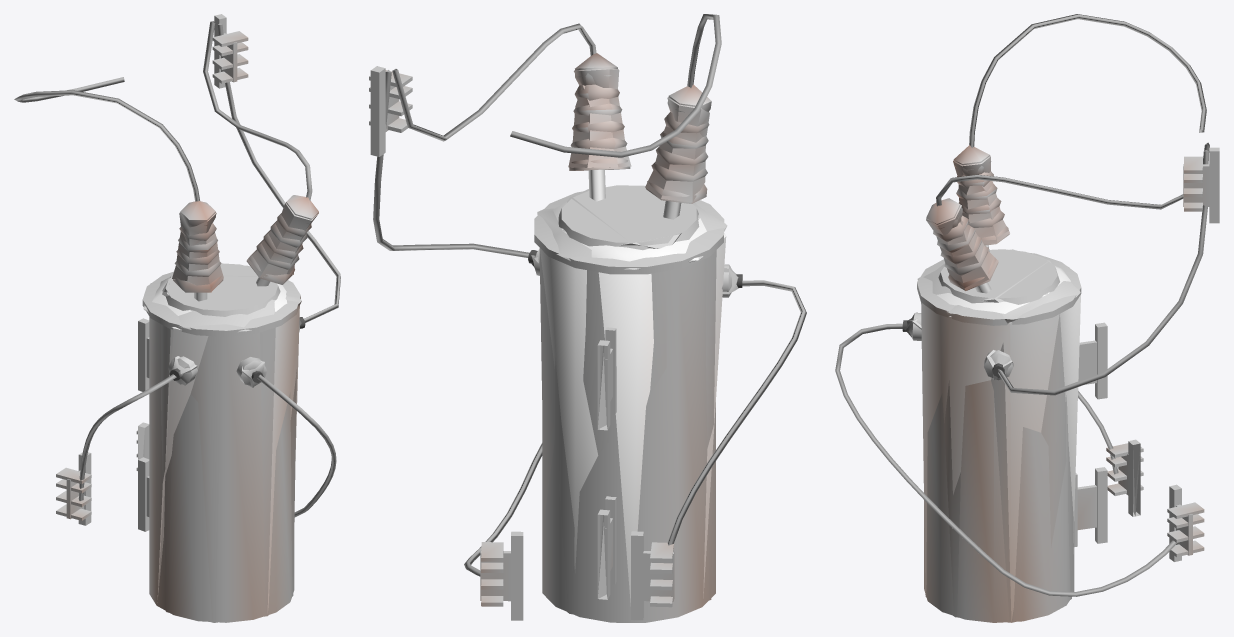
Rendered from electrical_transformer1.dae.
3 renders of one model, left to right at view 1: azimuth 30°, elevation 25°; view 2: azimuth 150°, elevation 25°; view 3: azimuth 270°, elevation 25°, orthographic. The views are drawn at different scales.
Parts seen in each view (by area): view 1: electrical_transformer1_a200, electrical_transformer1_a100, electrical_transformer1_a050; view 2: electrical_transformer1_a200, electrical_transformer1_a050, electrical_transformer1_a100; view 3: electrical_transformer1_a200, electrical_transformer1_a050, electrical_transformer1_a100.
Boxes of the visible parts, <box> form: electrical_transformer1_a200: <box>14,14,340,622</box>; electrical_transformer1_a100: <box>87,33,318,622</box>; electrical_transformer1_a050: <box>143,276,299,613</box>; electrical_transformer1_a200: <box>369,14,806,622</box>; electrical_transformer1_a050: <box>539,202,726,606</box>; electrical_transformer1_a100: <box>512,68,738,614</box>; electrical_transformer1_a200: <box>835,14,1219,622</box>; electrical_transformer1_a050: <box>921,265,1080,622</box>; electrical_transformer1_a100: <box>905,156,1208,622</box>.
Bounding box in the file's own units: 0.7437 × 0.8634 × 1.29.
